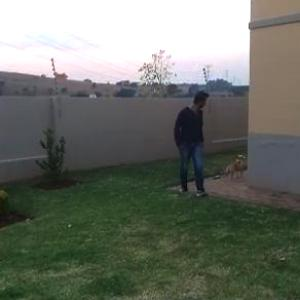follow: (175, 82, 210, 202)
